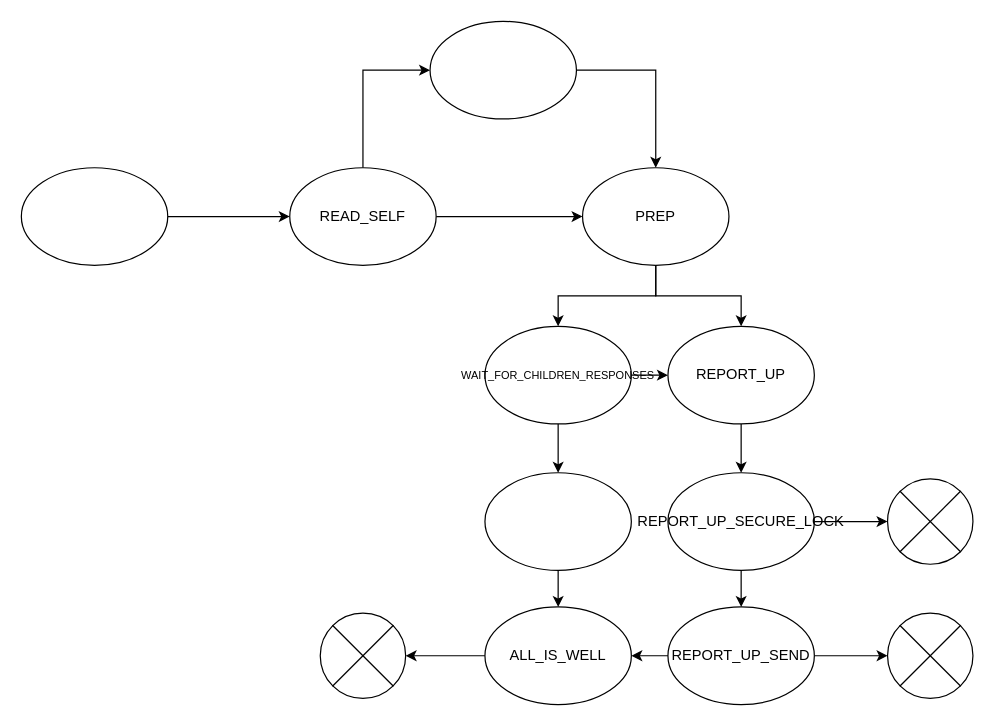
The diagram is 994 pixels wide and 726 high, and some of its shapes have lost their labels. Each missing label, with the box of its shape:
BEGIN: (20, 167, 168, 265)
I_AM_ROOT: (429, 20, 576, 119)
PROPAGATE_DOWN: (484, 472, 631, 570)
